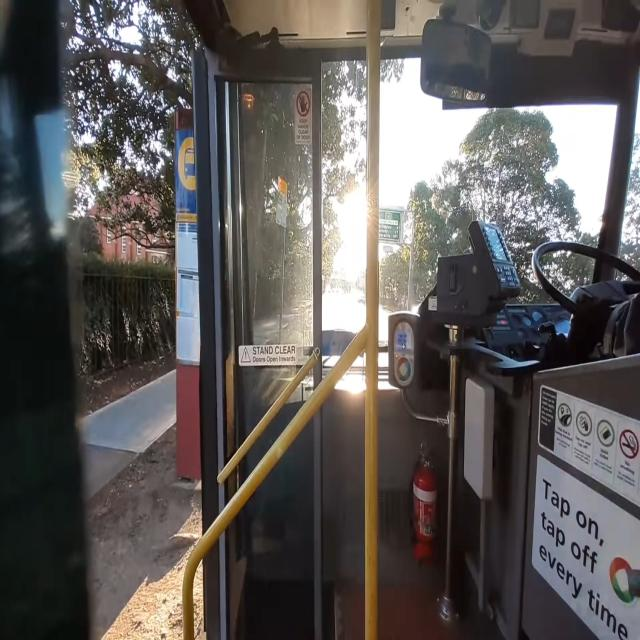bus-door: (17, 2, 324, 640)
